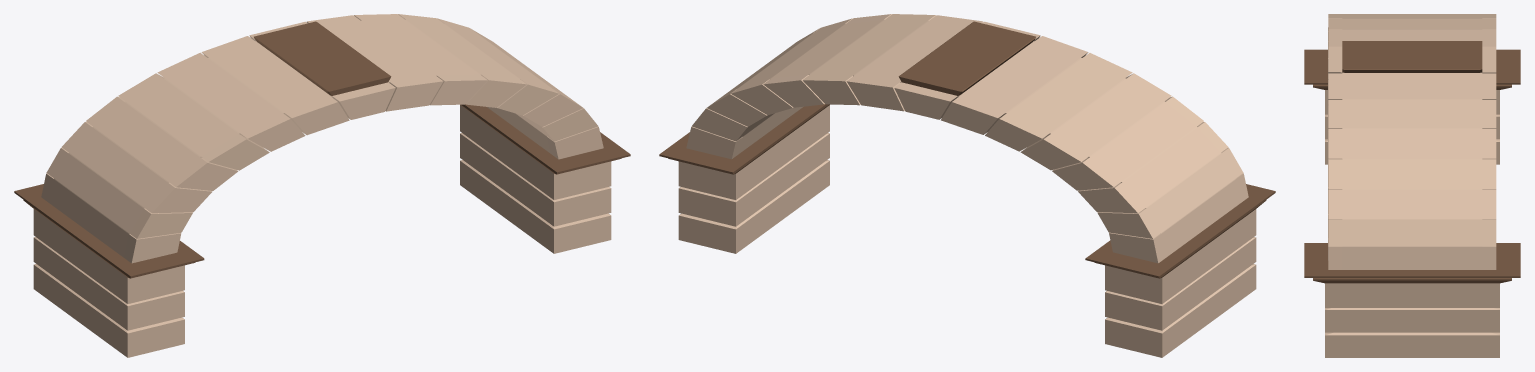
The model's file is Arch_5_2_2_Colored.fbx.
3 views of the same model, side by side, from view 1: azimuth 30°, elevation 25°; view 2: azimuth 150°, elevation 25°; view 3: azimuth 270°, elevation 25° (orthographic). The views are drawn at different scales.
Parts seen in each view (by area): view 1: Arch_5_2_2; view 2: Arch_5_2_2; view 3: Arch_5_2_2.
Boxes of the visible parts, x1=… form: Arch_5_2_2: x1=14, y1=14, x2=630, y2=357; Arch_5_2_2: x1=659, y1=14, x2=1275, y2=357; Arch_5_2_2: x1=1304, y1=14, x2=1520, y2=357.
Size of the model in its own units: 491 by 196 by 198.
